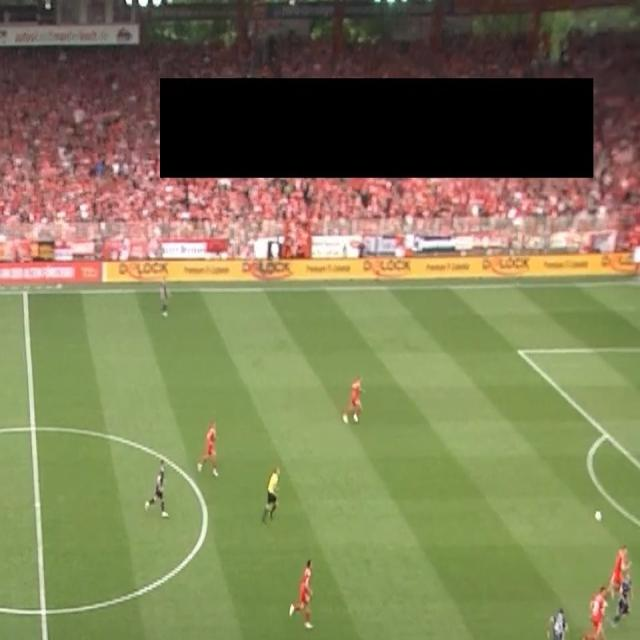ball: (594, 509, 602, 524)
